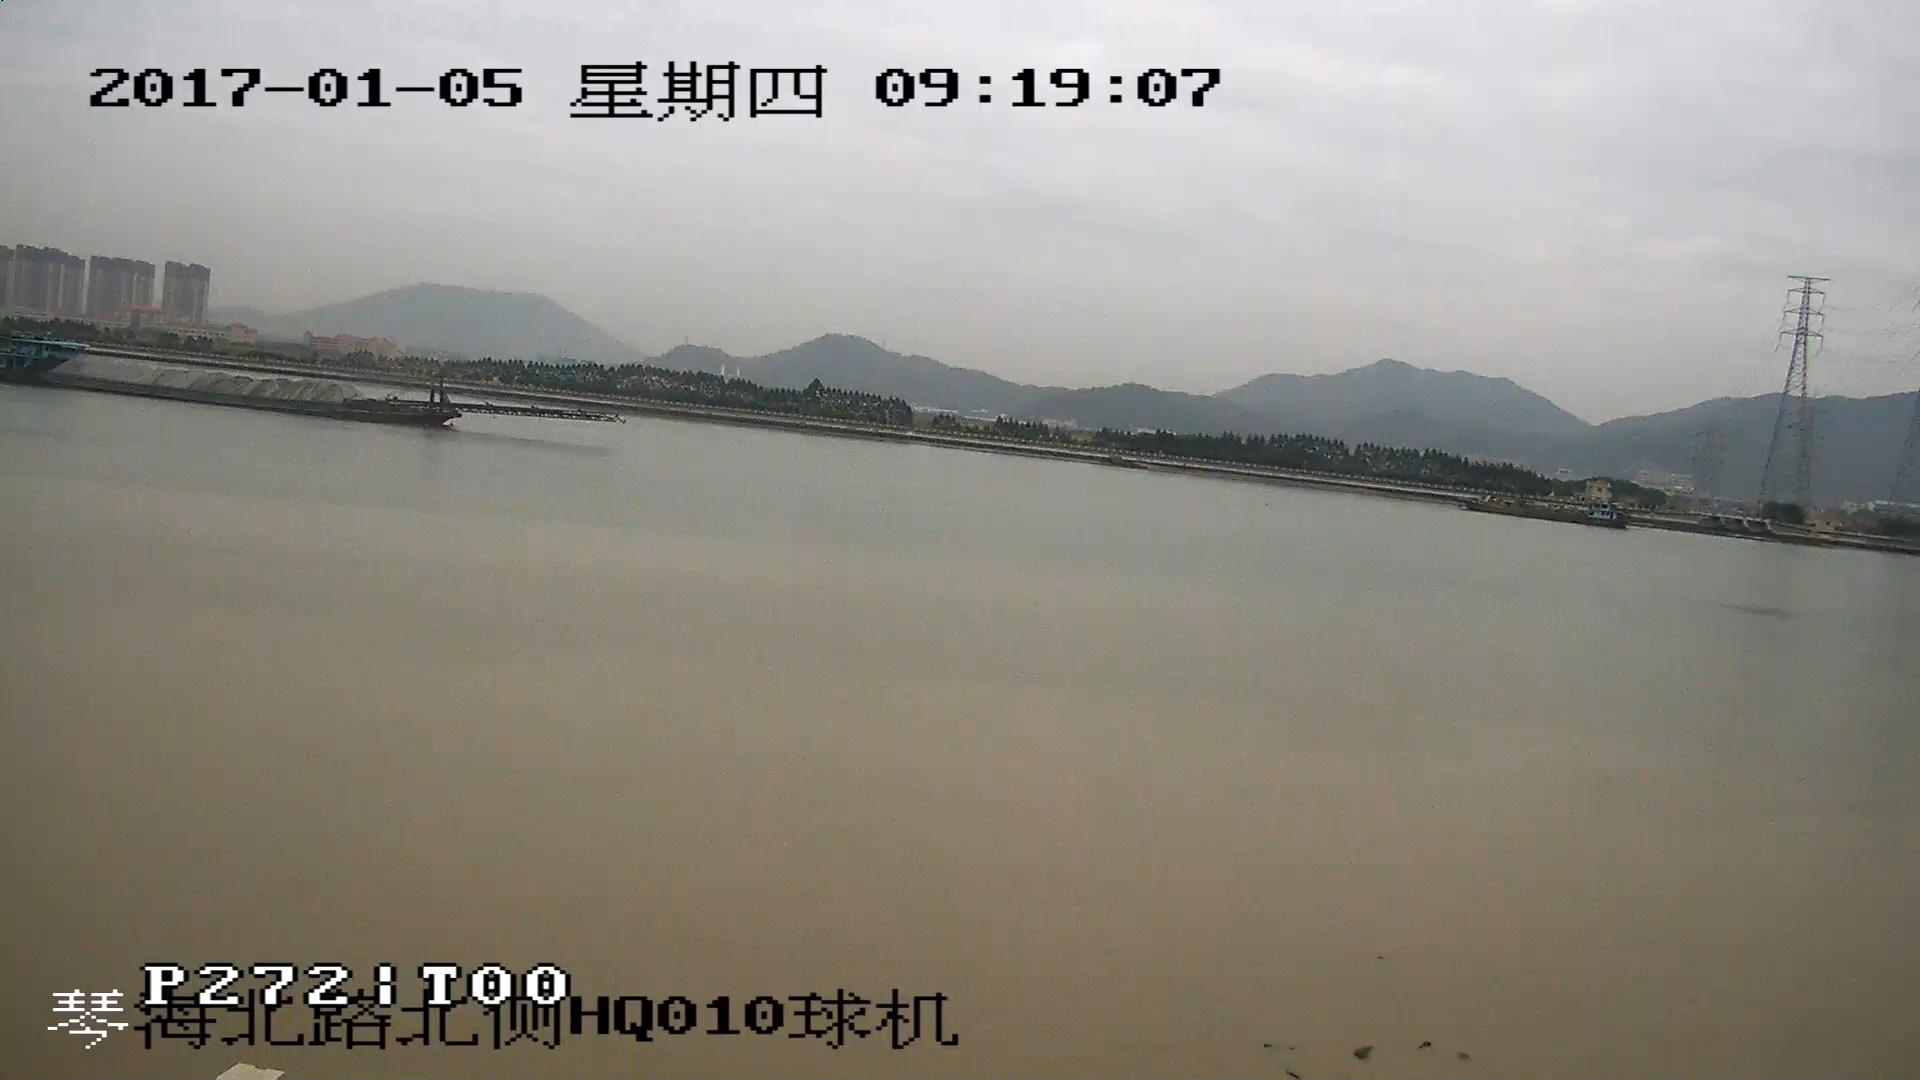ore carrier: (1, 346, 609, 427)
